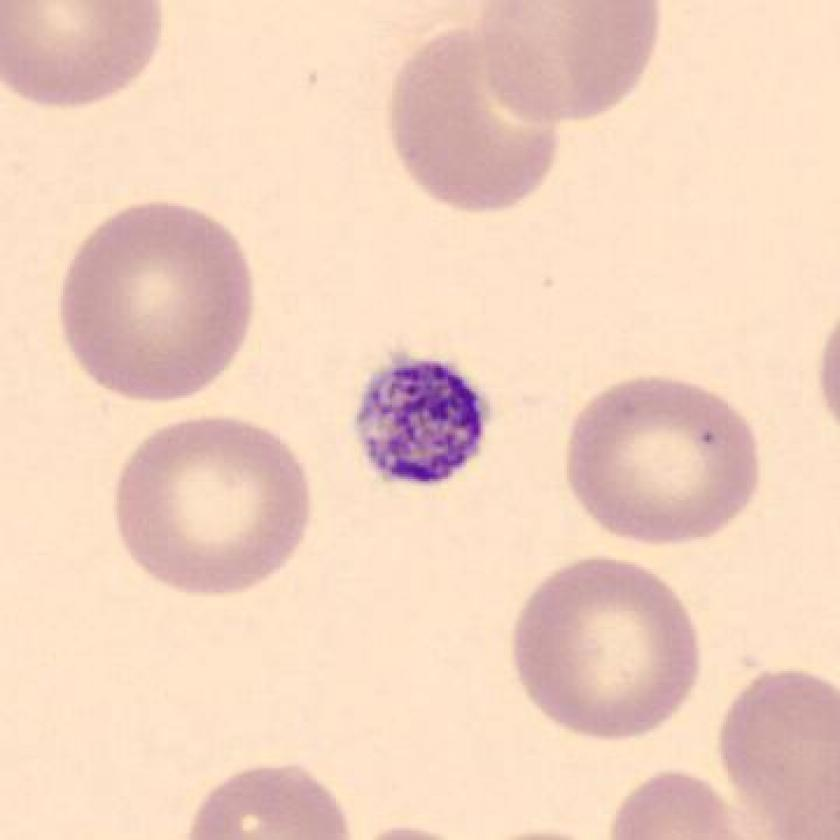platelets: (344, 343, 503, 508)
